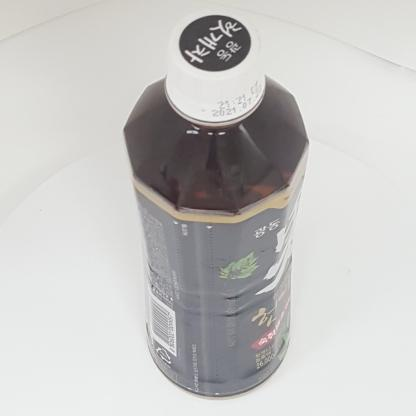---------500ML: (123, 5, 309, 402)
